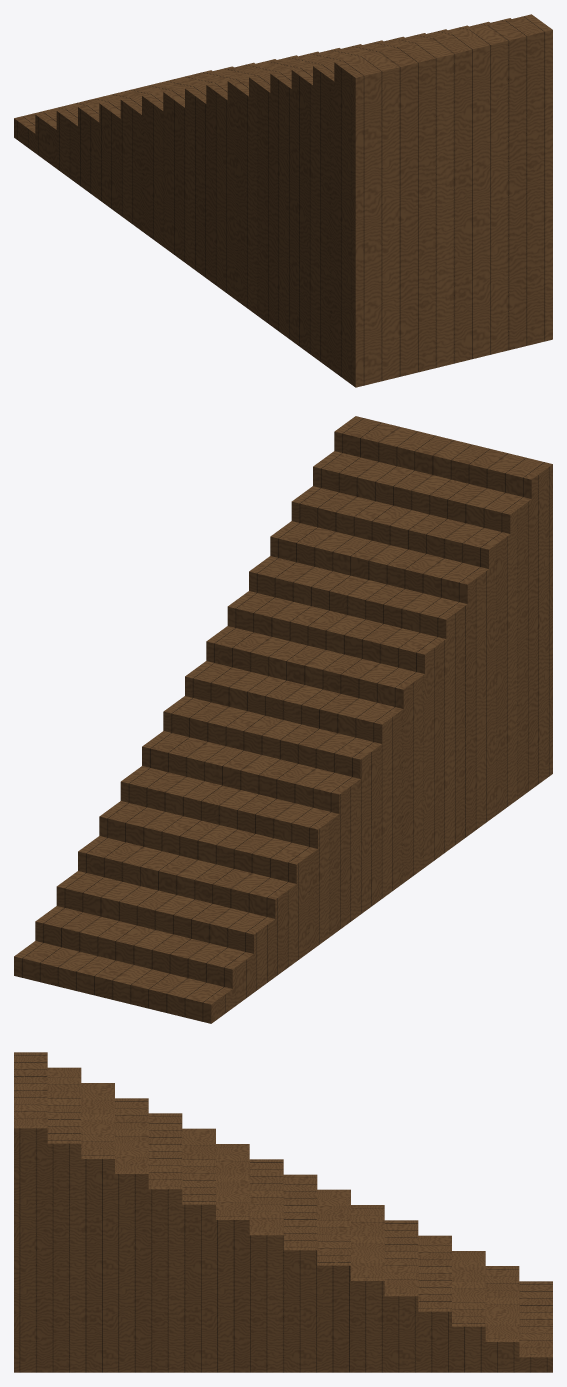
The model's file is ramp_2x6x3m.glb.
3 renders of one model, top to bottom at view 1: azimuth 30°, elevation 25°; view 2: azimuth 150°, elevation 25°; view 3: azimuth 270°, elevation 25°, orthographic. The views are drawn at different scales.
Parts seen in each view (by area): view 1: ramp_2x6x3m_tread_01, ramp_2x6x3m_tread_02, ramp_2x6x3m_tread_03, ramp_2x6x3m_tread_04, ramp_2x6x3m_tread_05, ramp_2x6x3m_tread_06, ramp_2x6x3m_tread_07, ramp_2x6x3m_tread_16, ramp_2x6x3m_tread_08, ramp_2x6x3m_tread_09, ramp_2x6x3m_tread_10, ramp_2x6x3m_tread_11 (+4 smaller); view 2: ramp_2x6x3m_tread_01, ramp_2x6x3m_tread_02, ramp_2x6x3m_tread_03, ramp_2x6x3m_tread_04, ramp_2x6x3m_tread_05, ramp_2x6x3m_tread_06, ramp_2x6x3m_tread_07, ramp_2x6x3m_tread_08, ramp_2x6x3m_tread_09, ramp_2x6x3m_tread_10, ramp_2x6x3m_tread_11, ramp_2x6x3m_tread_12 (+4 smaller); view 3: ramp_2x6x3m_tread_01, ramp_2x6x3m_tread_02, ramp_2x6x3m_tread_03, ramp_2x6x3m_tread_04, ramp_2x6x3m_tread_05, ramp_2x6x3m_tread_06, ramp_2x6x3m_tread_07, ramp_2x6x3m_tread_08, ramp_2x6x3m_tread_09, ramp_2x6x3m_tread_10, ramp_2x6x3m_tread_11, ramp_2x6x3m_tread_12 (+4 smaller).
Boxes of the visible parts, x1,y1,x2,y2 form: ramp_2x6x3m_tread_01: [14, 70, 552, 387]; ramp_2x6x3m_tread_02: [35, 66, 552, 368]; ramp_2x6x3m_tread_03: [56, 62, 552, 348]; ramp_2x6x3m_tread_04: [78, 59, 552, 329]; ramp_2x6x3m_tread_05: [99, 55, 552, 309]; ramp_2x6x3m_tread_06: [120, 51, 552, 290]; ramp_2x6x3m_tread_07: [142, 48, 552, 271]; ramp_2x6x3m_tread_16: [334, 14, 552, 97]; ramp_2x6x3m_tread_08: [163, 44, 552, 251]; ramp_2x6x3m_tread_09: [185, 40, 552, 232]; ramp_2x6x3m_tread_10: [206, 36, 552, 213]; ramp_2x6x3m_tread_11: [227, 33, 552, 193]; ramp_2x6x3m_tread_01: [14, 755, 552, 1023]; ramp_2x6x3m_tread_02: [35, 735, 552, 988]; ramp_2x6x3m_tread_03: [56, 716, 552, 953]; ramp_2x6x3m_tread_04: [78, 696, 552, 918]; ramp_2x6x3m_tread_05: [99, 677, 552, 883]; ramp_2x6x3m_tread_06: [120, 658, 552, 848]; ramp_2x6x3m_tread_07: [142, 638, 552, 813]; ramp_2x6x3m_tread_08: [163, 619, 552, 778]; ramp_2x6x3m_tread_09: [185, 600, 552, 743]; ramp_2x6x3m_tread_10: [206, 580, 552, 708]; ramp_2x6x3m_tread_11: [227, 561, 552, 673]; ramp_2x6x3m_tread_12: [249, 542, 552, 638]; ramp_2x6x3m_tread_01: [14, 1281, 552, 1372]; ramp_2x6x3m_tread_02: [14, 1266, 519, 1357]; ramp_2x6x3m_tread_03: [14, 1251, 485, 1341]; ramp_2x6x3m_tread_04: [14, 1235, 451, 1326]; ramp_2x6x3m_tread_05: [14, 1220, 418, 1311]; ramp_2x6x3m_tread_06: [14, 1205, 384, 1296]; ramp_2x6x3m_tread_07: [14, 1189, 350, 1280]; ramp_2x6x3m_tread_08: [14, 1174, 317, 1265]; ramp_2x6x3m_tread_09: [14, 1159, 283, 1250]; ramp_2x6x3m_tread_10: [14, 1144, 249, 1235]; ramp_2x6x3m_tread_11: [14, 1128, 215, 1219]; ramp_2x6x3m_tread_12: [14, 1113, 182, 1204].
Bounding box in the file's own units: 2 × 3 × 6.
1 material, 1 textured.
